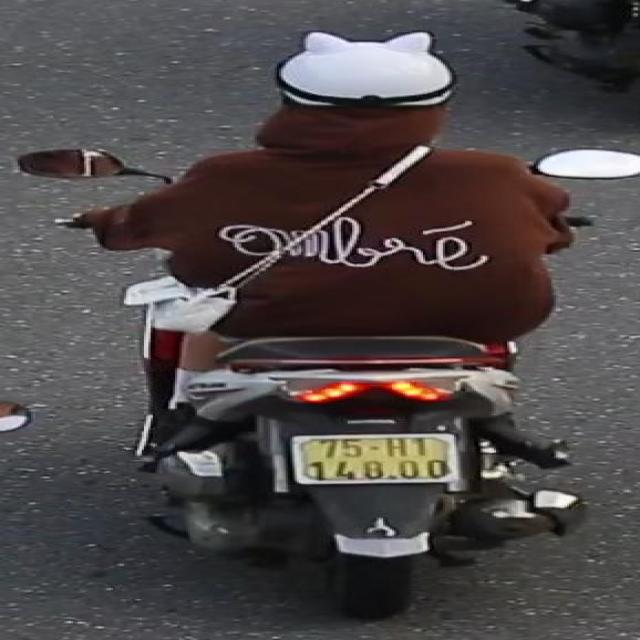LP: (281, 421, 474, 506)
helmet: (263, 30, 463, 134)
